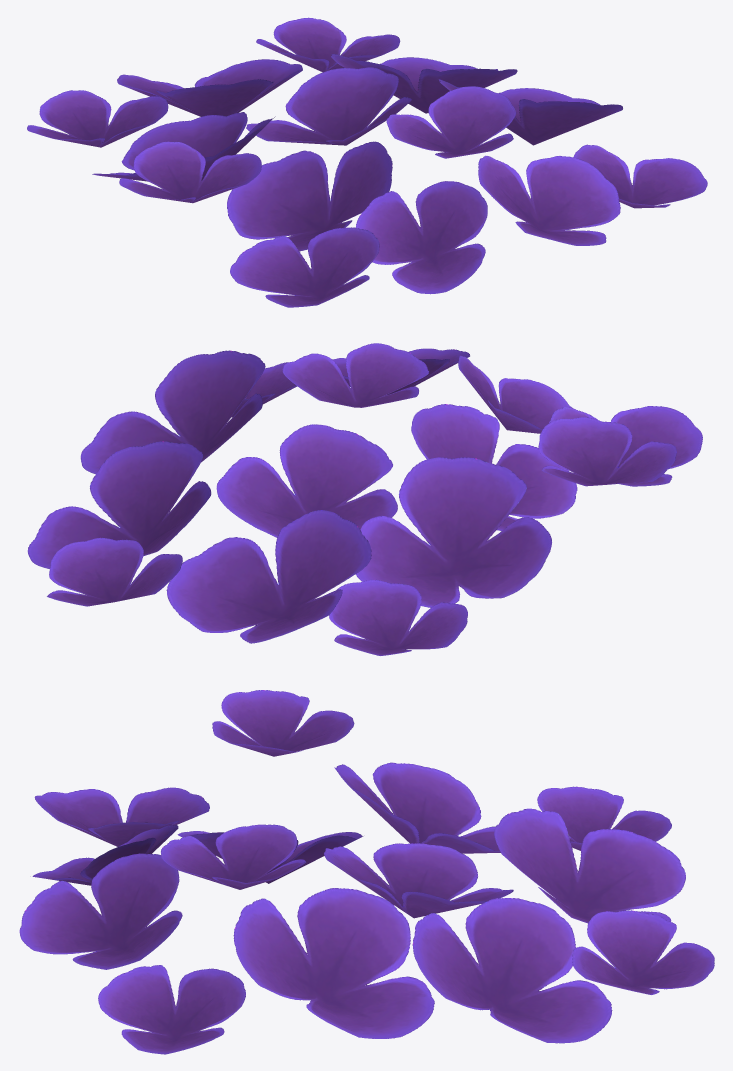
Rendered from Plant_7_Big.glb.
The picture shows the model from 3 angles, top to bottom: view 1: azimuth 30°, elevation 25°; view 2: azimuth 150°, elevation 25°; view 3: azimuth 270°, elevation 25°; orthographic projection. The views are drawn at different scales.
Parts seen in each view (by area): view 1: Plant_7_Big; view 2: Plant_7_Big; view 3: Plant_7_Big.
Boxes of the visible parts, <box> form: Plant_7_Big: <box>27,17,707,307</box>; Plant_7_Big: <box>27,343,702,655</box>; Plant_7_Big: <box>19,690,714,1054</box>.
Size of the model in its own units: 1.31 by 0.2534 by 1.36.
1 material, 1 textured.
